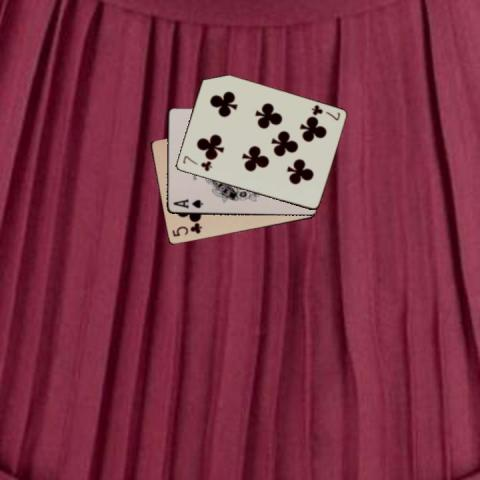5c: (169, 221, 203, 238)
7c: (180, 153, 214, 172), (309, 102, 341, 122)
As: (170, 196, 204, 210)
